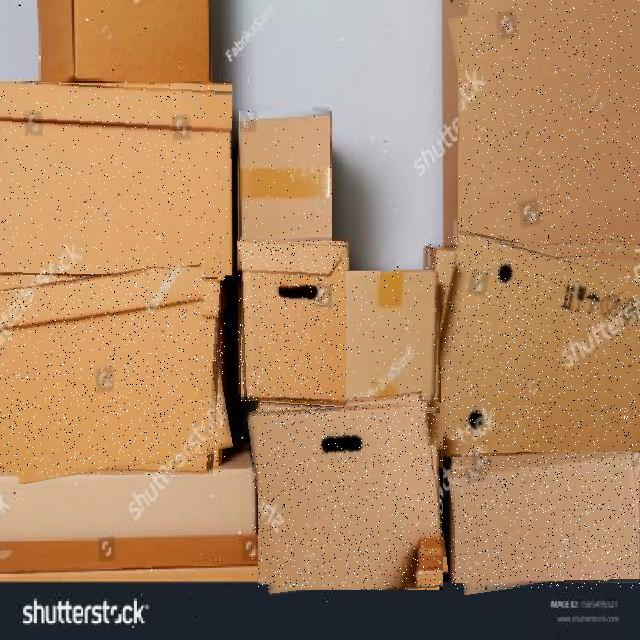BoxFace: (425, 236, 640, 463), (0, 263, 225, 475), (458, 0, 640, 254), (0, 81, 232, 275), (252, 395, 443, 590), (451, 451, 640, 589), (238, 240, 350, 405), (346, 270, 440, 402), (239, 111, 332, 243)
